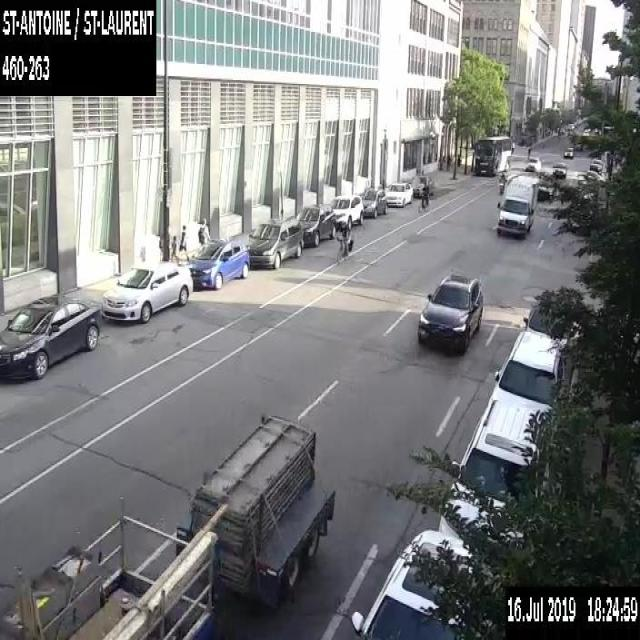bus: (475, 135, 510, 174)
cyclist: (335, 218, 355, 264), (417, 179, 432, 212), (527, 146, 531, 158)
pedestrian: (177, 222, 190, 262), (197, 216, 212, 245), (170, 234, 178, 262), (510, 137, 514, 156)
vehicle: (0, 410, 337, 638), (437, 396, 548, 542), (351, 528, 492, 638), (0, 294, 101, 378), (487, 328, 565, 419), (101, 260, 192, 321), (418, 269, 482, 353), (188, 237, 249, 289), (244, 215, 303, 268), (496, 172, 538, 234), (523, 303, 568, 348), (298, 202, 336, 245), (332, 193, 363, 229), (384, 180, 412, 207), (361, 188, 387, 217), (410, 174, 432, 197), (552, 161, 567, 178), (589, 156, 603, 172), (526, 156, 540, 172), (497, 172, 507, 193), (563, 146, 574, 158)
